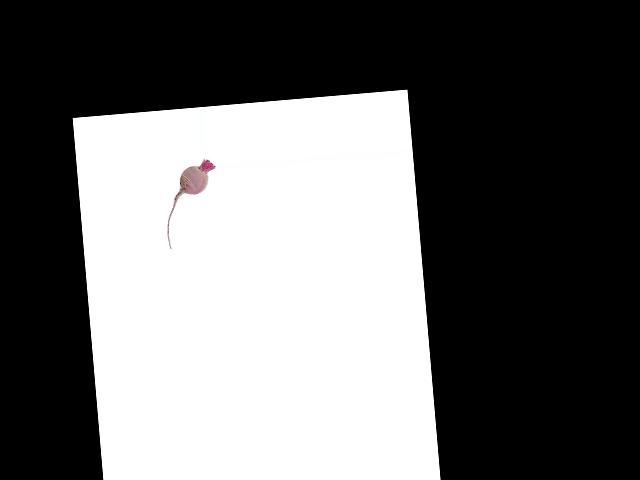beet: (161, 158, 222, 250)
